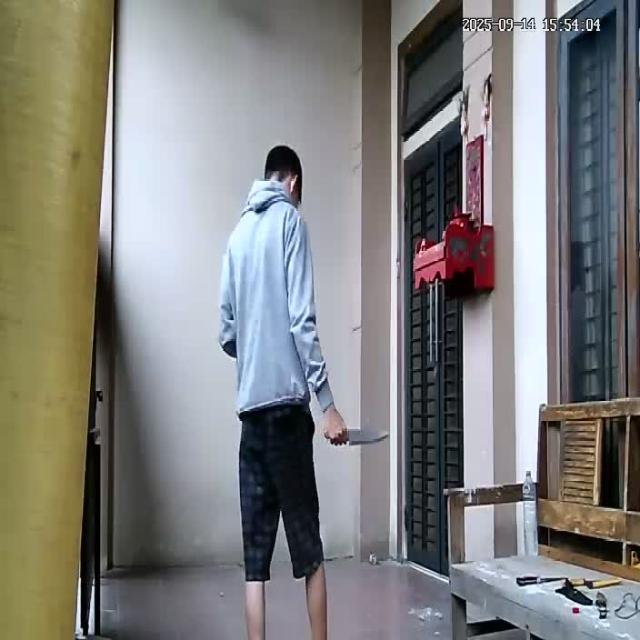senjata_tajam: (347, 426, 391, 447)
